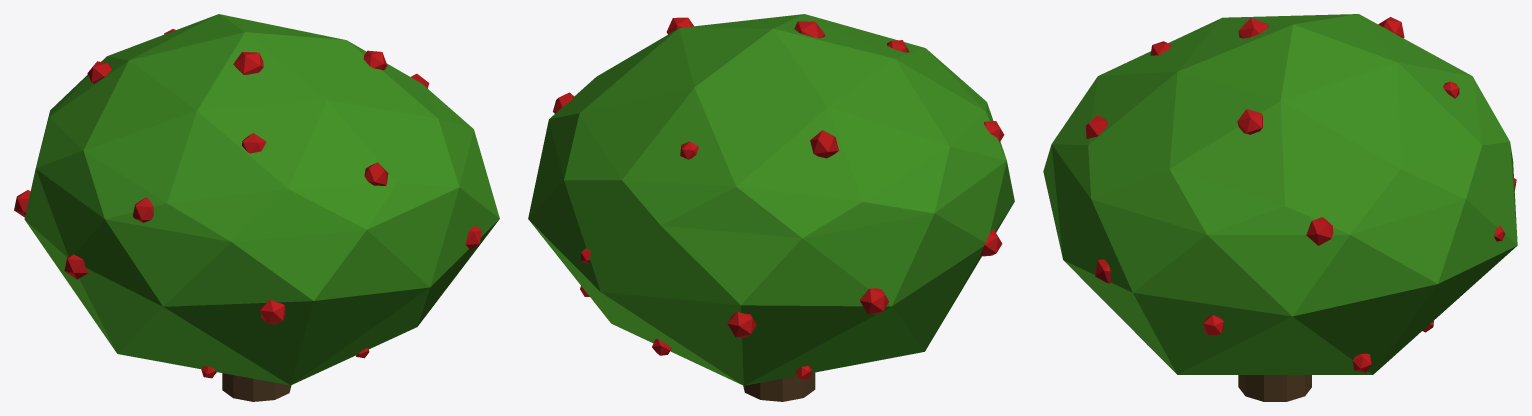
The model's file is Bush.fbx.
3 views of the same model, side by side, from view 1: azimuth 30°, elevation 25°; view 2: azimuth 150°, elevation 25°; view 3: azimuth 270°, elevation 25° (orthographic). The views are drawn at different scales.
Parts seen in each view (by area): view 1: Icosphere, Cylinder; view 2: Icosphere, Cylinder; view 3: Icosphere, Cylinder.
Part boxes in pixels (x1,y1,x2,y2): Icosphere: (14,14,499,385); Cylinder: (222,373,291,401); Icosphere: (528,14,1014,385); Cylinder: (743,372,815,401); Icosphere: (1043,14,1517,374); Cylinder: (1238,375,1311,401).
Bounding box in the file's own units: 154 × 126 × 150.
